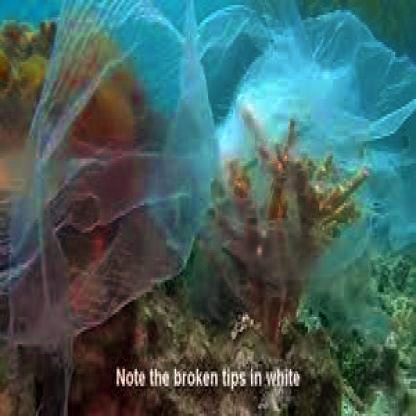pbag: (1, 2, 414, 364)
